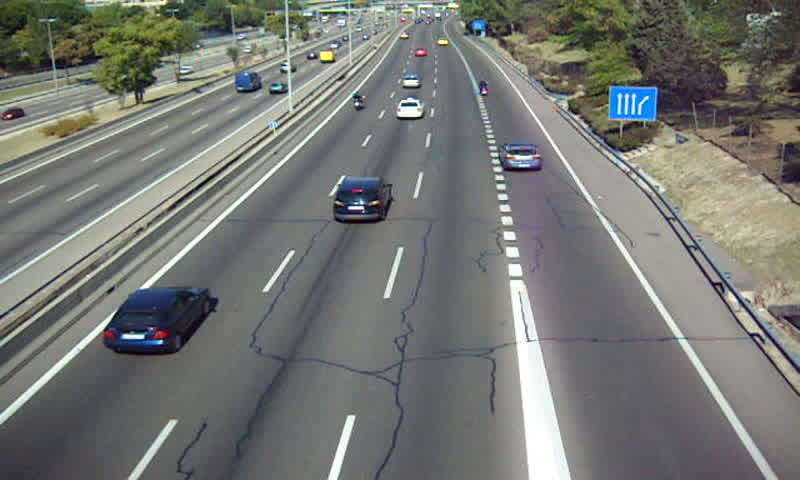car: (103, 287, 212, 355), (334, 176, 393, 220), (497, 140, 541, 172), (396, 98, 426, 118), (401, 74, 421, 89)
motorcycle: (353, 91, 368, 113), (477, 79, 489, 97)
